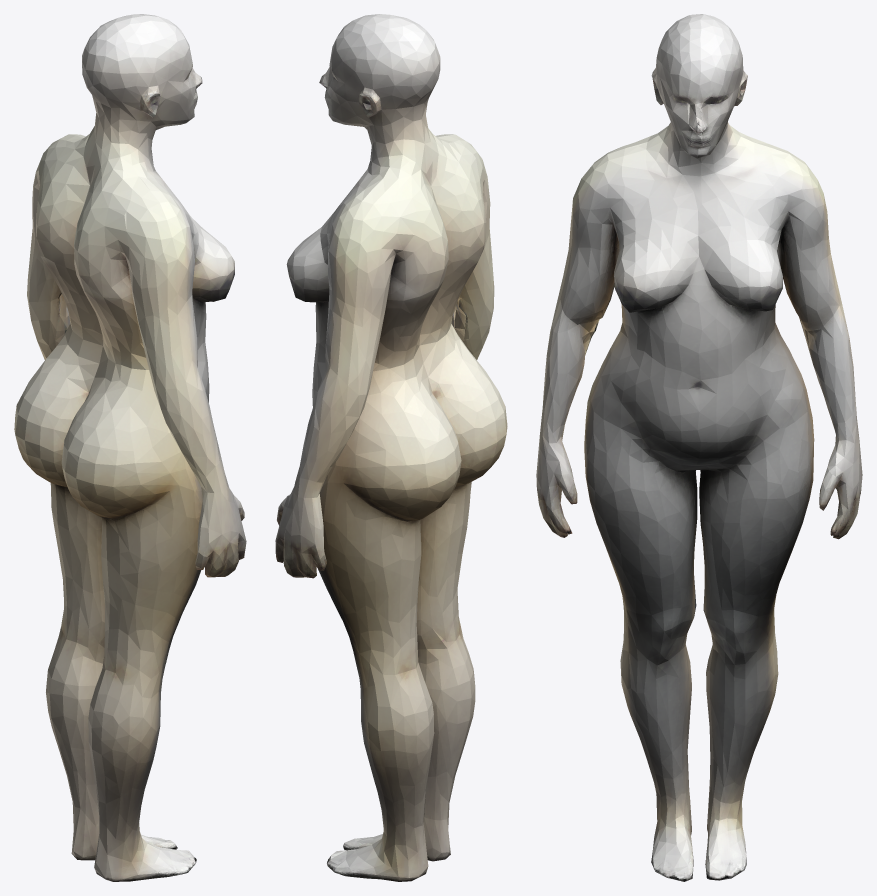
The model's file is Overweight_Pear.glb.
3 views of the same model, side by side, from view 1: azimuth 30°, elevation 25°; view 2: azimuth 150°, elevation 25°; view 3: azimuth 270°, elevation 25° (orthographic).
Visible parts, largest first — view 1: world; view 2: world; view 3: world.
Boxes of the visible parts, left/top/right/bottom form: world: left=14, top=14, right=246, bottom=881; world: left=275, top=14, right=507, bottom=881; world: left=536, top=14, right=862, bottom=881.
Size of the model in its own units: 0.1971 by 0.999 by 0.3522.
1 material, 1 textured.
